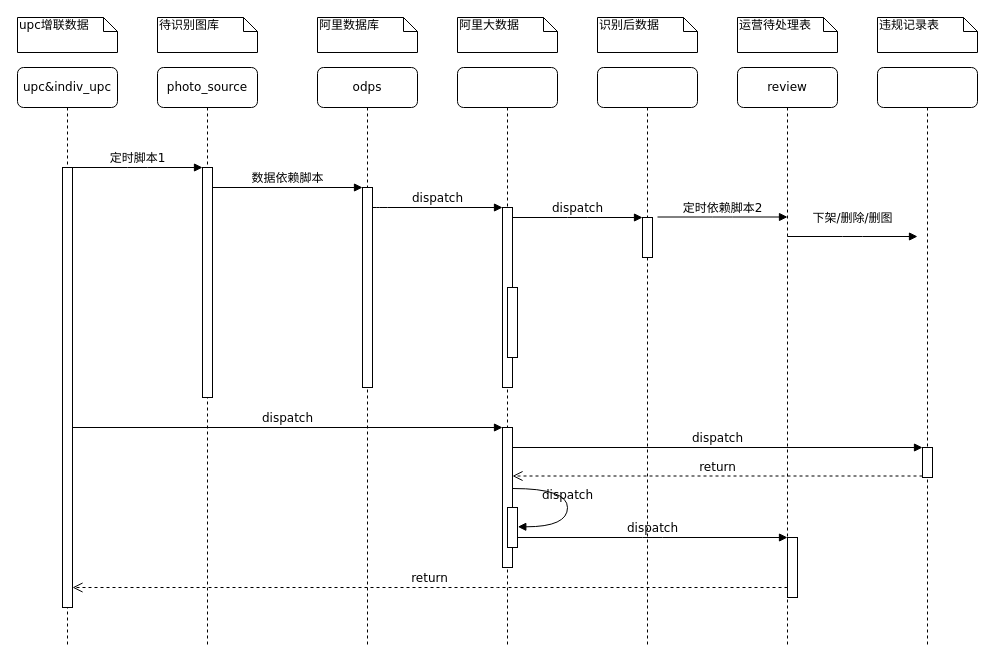
This 995x665 diagram has some shape labels left out. The shapes that lost their labels are listed below. From the top down, each one's box as (x1, y1, x2, y2) in pixels, then its label:
(456, 66, 558, 648): AI
(596, 66, 698, 648): photo_result
(876, 66, 978, 648): review_record
